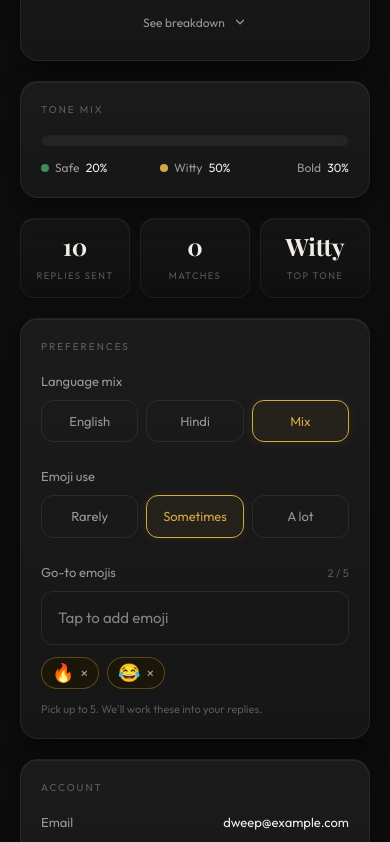
ProfileScreen › preferences — draft / save / discard › Save changes persists and confirms
(page scrolled)
Click the button "Hindi" at (195, 421), box left=146, top=400, right=244, bottom=442
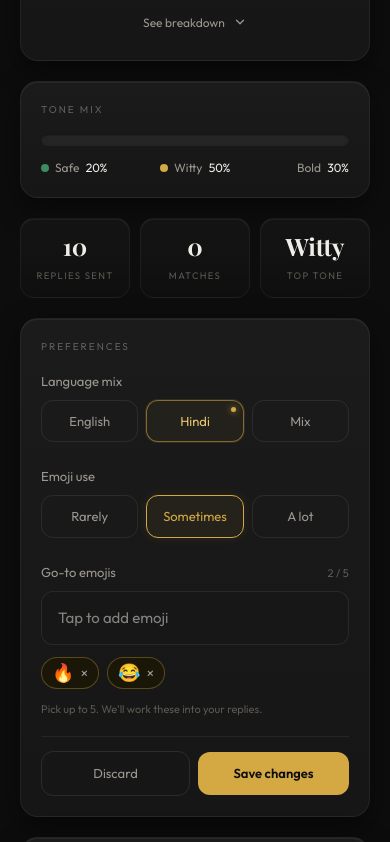
Click the button "Save changes" at (274, 774), box left=198, top=752, right=349, bottom=795
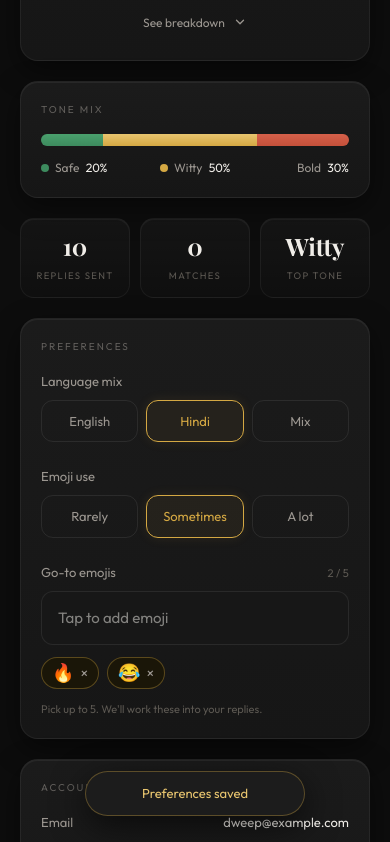
Expected: the text "Preferences saved" is shown, left=85, top=771, right=305, bottom=816
Expected: the button "Save changes" is gone
